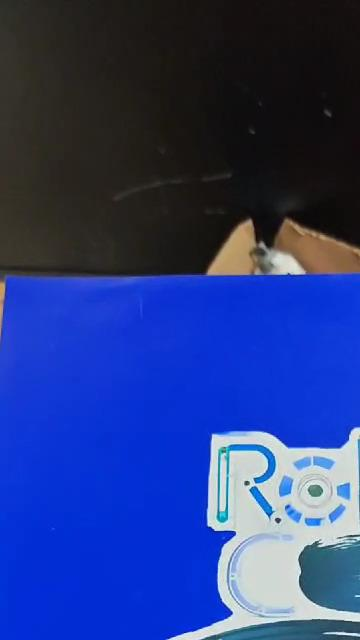B_R1: (2, 415, 360, 640)
